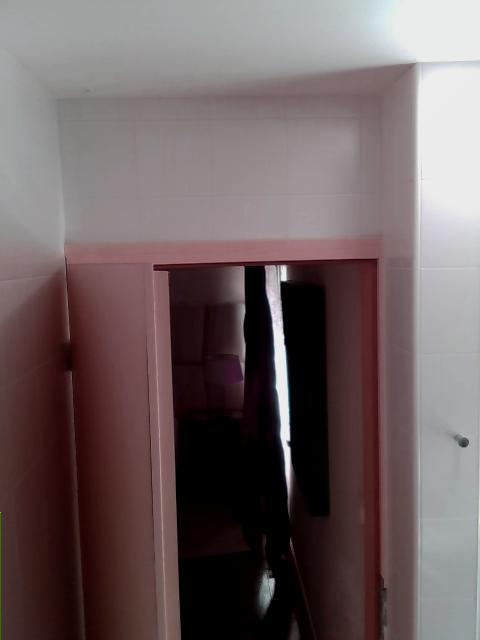semi_door: (63, 233, 383, 639)
